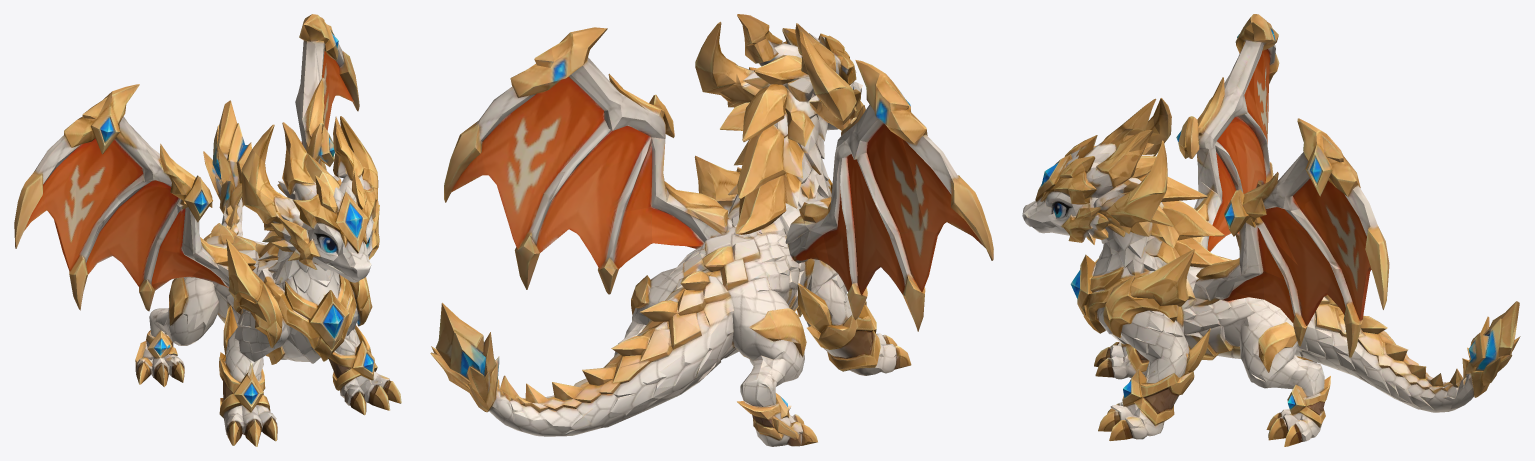
File: dragonsteel-sky-dragon-v2-geometry.glb
The picture shows the model from 3 angles, left to right: view 1: azimuth 30°, elevation 25°; view 2: azimuth 150°, elevation 25°; view 3: azimuth 270°, elevation 25°; orthographic projection. The views are drawn at different scales.
Parts seen in each view (by area): view 1: output_unwrapped; view 2: output_unwrapped; view 3: output_unwrapped.
Boxes of the visible parts, box(x1,y1,x2,y2) form: output_unwrapped: box(14, 14, 401, 446); output_unwrapped: box(430, 14, 993, 446); output_unwrapped: box(1022, 14, 1520, 446).
Size of the model in its own units: 1.82 by 1.36 by 1.89.
1 material, 1 textured.
